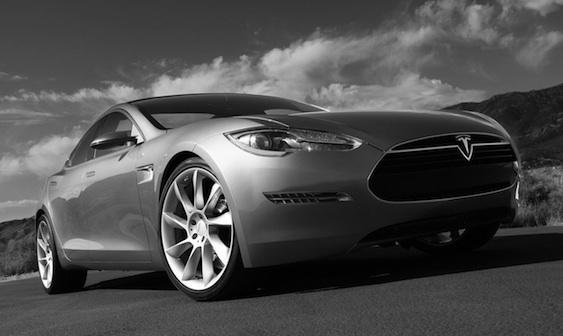car: (29, 69, 538, 303)
